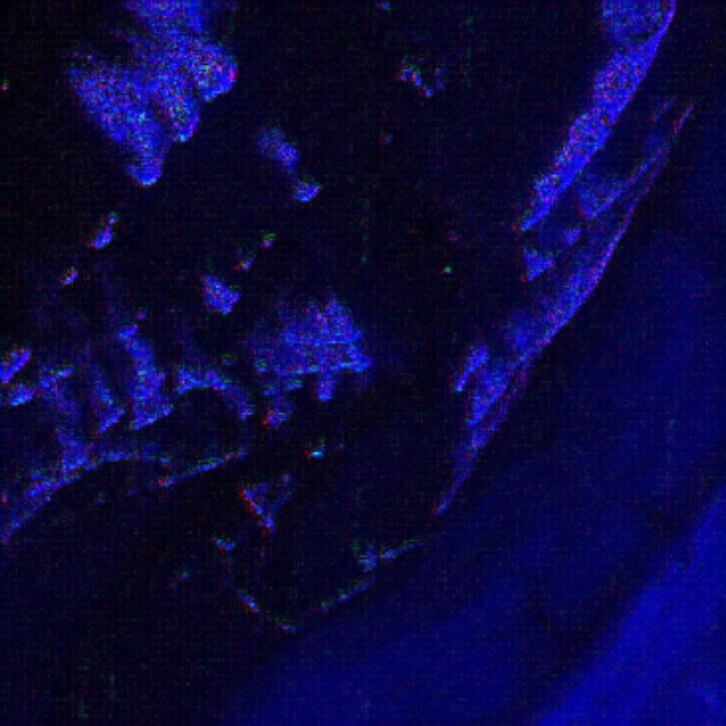rip_current: (266, 123, 479, 484)
